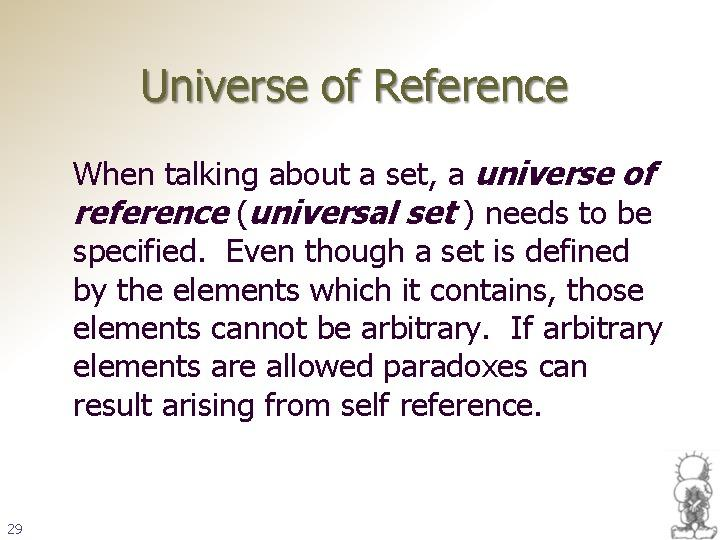paragraph: (60, 148, 687, 441)
title: (136, 56, 584, 118)
